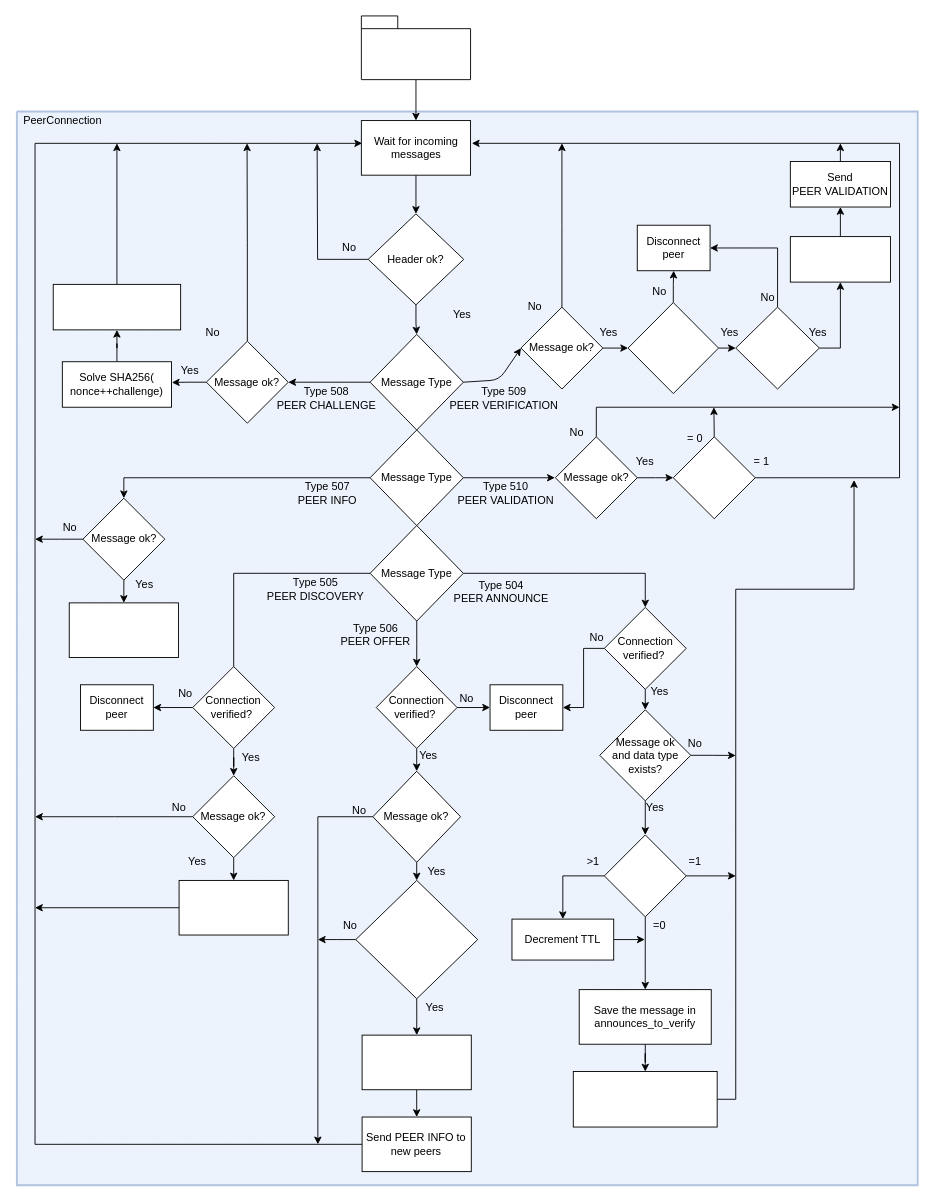
Some shapes in this 934 by 1202 pixel diagram are drawn without their labels. The shapes that lost their labels are listed below. From the top down, each one's box as (x1, y1, x2, y2) in pixels, then its label:
(360, 15, 471, 80): Gossip
(789, 236, 890, 282): set this connection fully validated
(52, 283, 181, 330): Send PEER VERIFICATION
(627, 302, 719, 394): Sent PEER CHALLENGE ?
(735, 306, 819, 389): Hash okay ?
(672, 436, 755, 519): Valid bit
(68, 602, 178, 657): Save p2p listening port
(603, 834, 686, 917): TTL
(178, 880, 288, 935): Send Peer Offer, containing all verified connected peers
(355, 880, 478, 999): PEER DISCOVERY was send not too long ago?
(361, 1034, 471, 1090): Connect to new peers
(572, 1071, 717, 1127): Notify all subscribers (GOSSIP NOTIFICATION)
